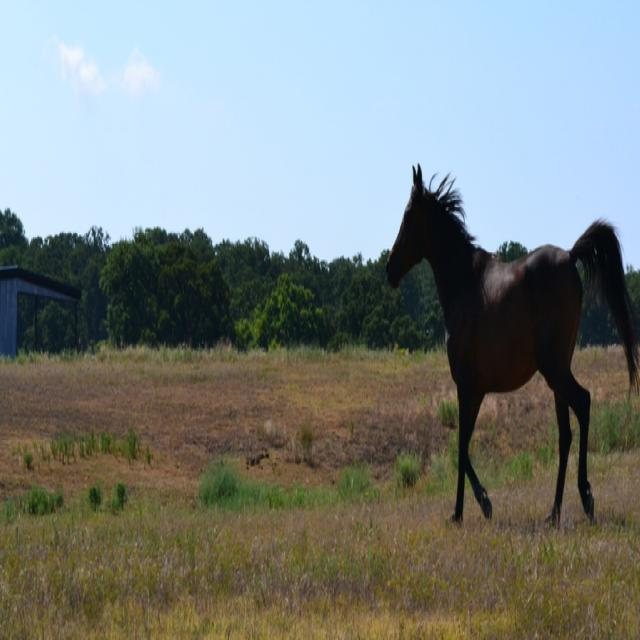Horse: (382, 162, 640, 522)
